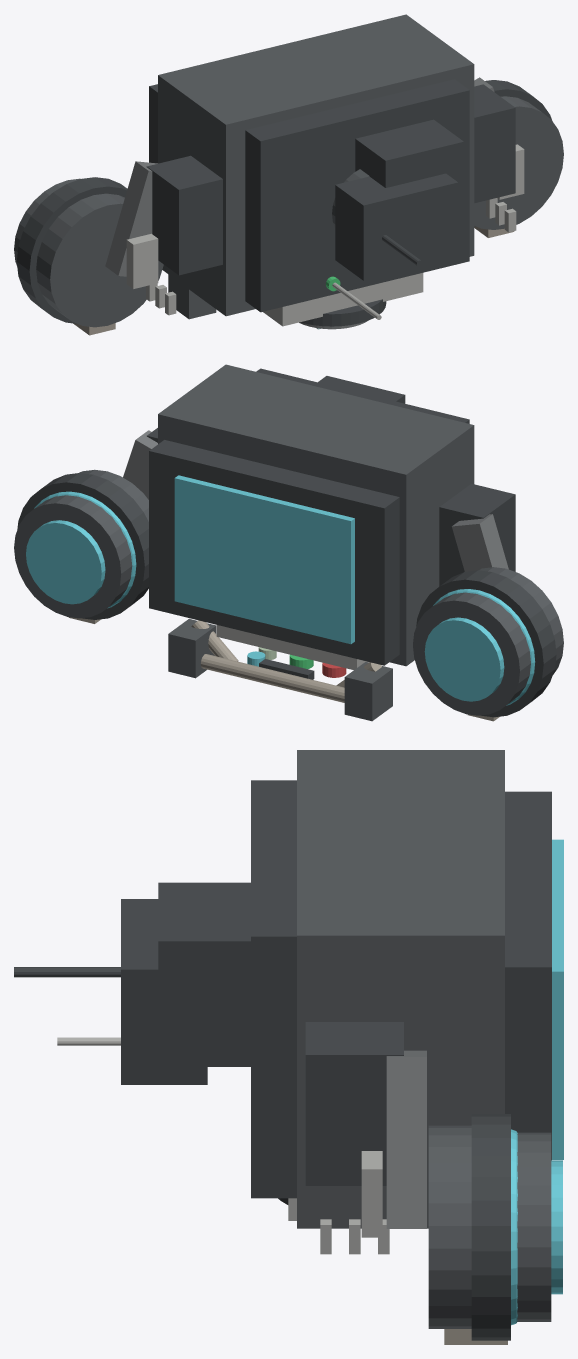
The model's file is robot_hovercraft_game_model.glb.
The picture shows the model from 3 angles, top to bottom: view 1: azimuth 30°, elevation 25°; view 2: azimuth 150°, elevation 25°; view 3: azimuth 270°, elevation 25°; orthographic projection. The views are drawn at different scales.
Parts seen in each view (by area): view 1: main_chassis, upper_deck, turret_head, pod_upper_-1, shoulder_-1, rear_block, pod_upper_1, shoulder_1, pod_mid_-1, support_arm_-1, front_panel, arm_accent_-1 (+6 smaller); view 2: main_chassis, lower_glow, lower_chassis, pod_lower_-1, pod_lower_1, pod_glow_bottom_1, pod_glow_bottom_-1, pod_mid_-1, pod_mid_1, shoulder_-1, bumper_mount_-1, bumper_bar (+12 smaller); view 3: main_chassis, upper_deck, rear_block, lower_chassis, shoulder_1, pod_mid_1, pod_upper_1, turret_head, support_arm_1, pod_lower_1, lower_glow, arm_accent_1 (+3 smaller).
Boxes of the visible parts, x1,y1,x2,y2 form: main_chassis: (158, 14, 474, 316); upper_deck: (245, 79, 469, 312); turret_head: (335, 173, 458, 280); pod_upper_-1: (36, 193, 163, 327); shoulder_-1: (146, 155, 222, 275); rear_block: (355, 119, 463, 224); pod_upper_1: (474, 96, 563, 229); shoulder_1: (474, 84, 515, 203); pod_mid_-1: (16, 177, 127, 323); support_arm_-1: (105, 161, 157, 276); front_panel: (263, 273, 423, 326); arm_accent_-1: (126, 233, 158, 288); main_chassis: (158, 364, 474, 666); lower_glow: (174, 475, 354, 644); lower_chassis: (149, 440, 399, 665); pod_lower_-1: (413, 592, 530, 715); pod_lower_1: (14, 495, 132, 618); pod_glow_bottom_1: (26, 520, 105, 604); pod_glow_bottom_-1: (424, 617, 504, 701); pod_mid_-1: (416, 570, 556, 717); pod_mid_1: (17, 473, 148, 619); shoulder_-1: (439, 483, 515, 586); bumper_mount_-1: (344, 662, 392, 721); bumper_bar: (201, 654, 344, 702); main_chassis: (297, 750, 504, 1228); upper_deck: (251, 780, 296, 1198); rear_block: (158, 882, 250, 1066); lower_chassis: (505, 791, 551, 1160); shoulder_1: (305, 1022, 403, 1185); pod_mid_1: (471, 1114, 510, 1340); pod_upper_1: (428, 1125, 471, 1328); turret_head: (121, 899, 207, 1084); support_arm_1: (386, 1050, 426, 1228); pod_lower_1: (517, 1132, 551, 1321); lower_glow: (552, 839, 563, 1159); arm_accent_1: (361, 1151, 382, 1237).
Bounding box in the file's own units: 8.06 × 3.55 × 4.76.
